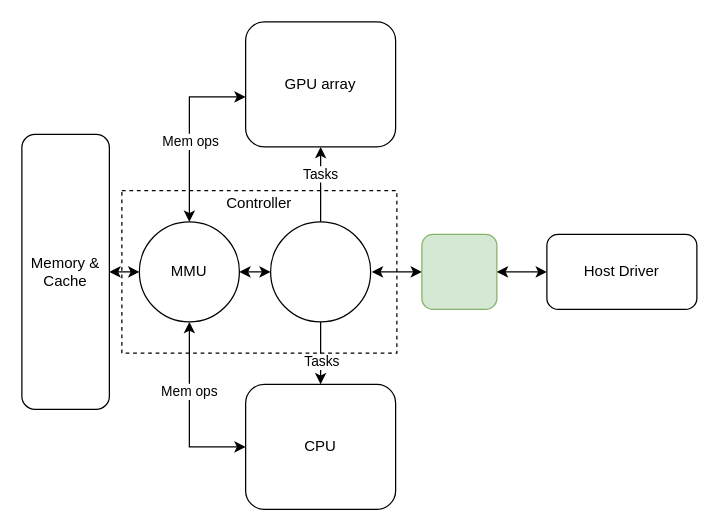
Some shapes in this 719 by 531 pixel diagram are drawn without their labels. Each missing label, with the centre of its shape:
"PCI Interface" belongs at point (459, 271).
"Task Manager" belongs at point (320, 271).
